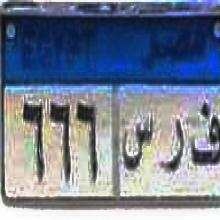6: (76, 100, 102, 189), (46, 98, 74, 180), (20, 98, 46, 181)
faa: (190, 97, 220, 172)
raa: (159, 114, 186, 179)
seen: (121, 114, 155, 178)
